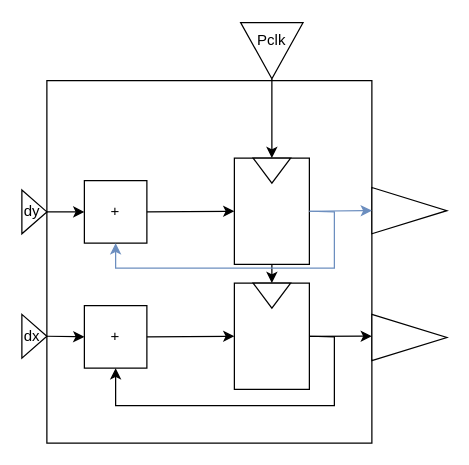
Some shapes in this 469 by 465 pixel diagram are drawn without their labels. The shapes that lost their labels are listed below. From the top down, each one's box as (x1, y1, x2, y2) in pixels, then its label:
(371, 186, 447, 234): Ball_y
(371, 313, 447, 361): Ball_x
